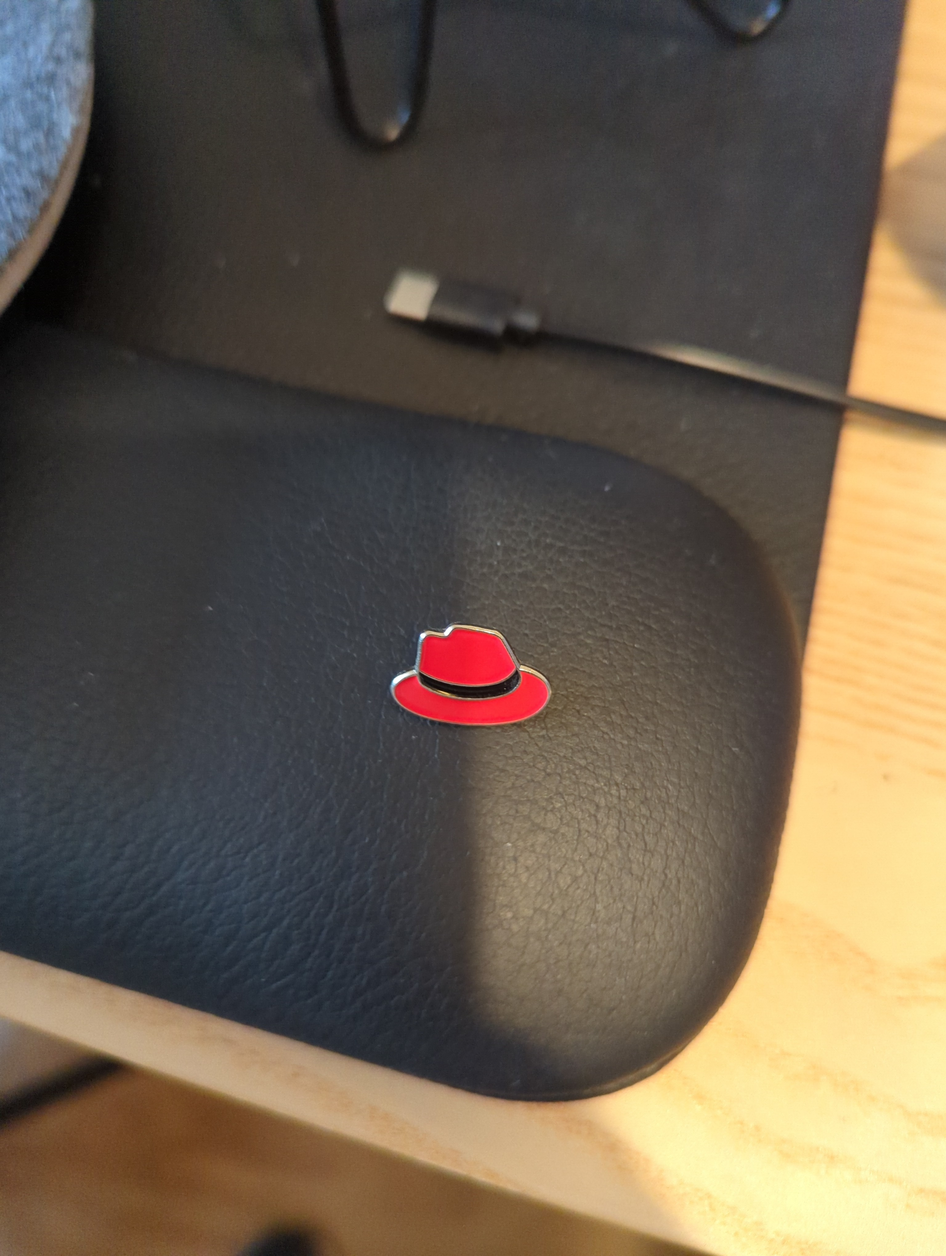Red-Hat: (320, 561, 625, 818)
